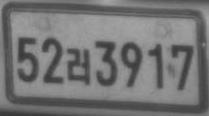1: (144, 43, 169, 89)
2: (41, 36, 65, 84)
3: (93, 40, 119, 87)
5: (16, 36, 40, 83)
7: (169, 44, 194, 90)
9: (119, 40, 144, 88)
러: (65, 46, 91, 86)
